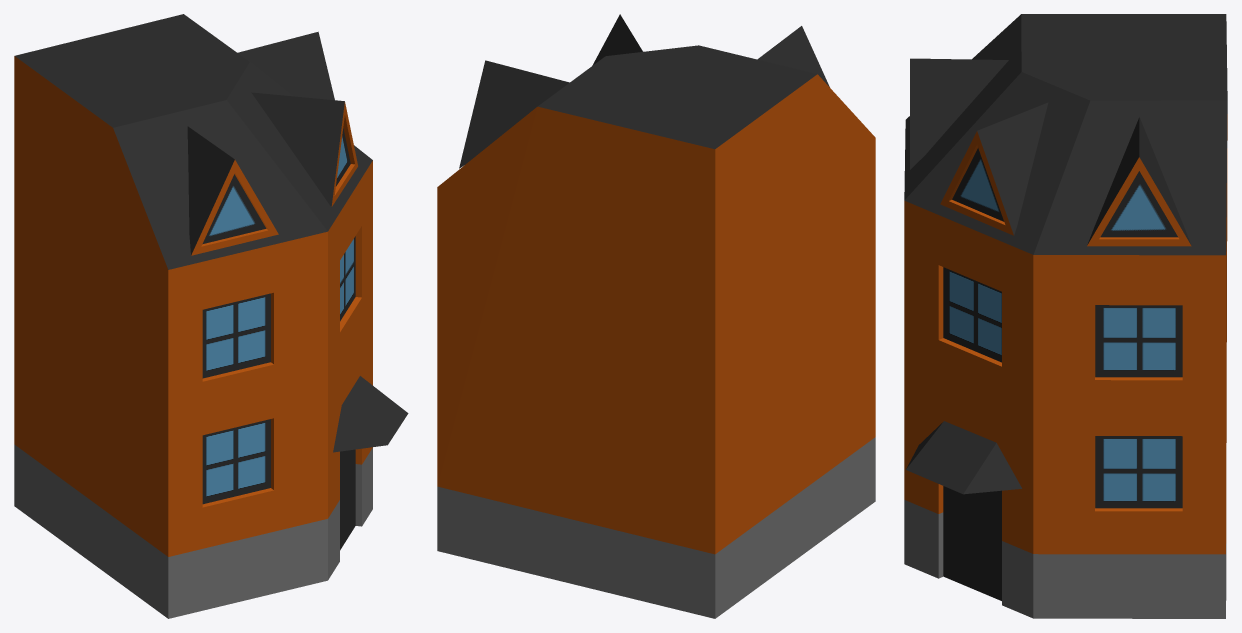
The model's file is CornerTriangleOrange.obj.
3 renders of one model, left to right at view 1: azimuth 30°, elevation 25°; view 2: azimuth 150°, elevation 25°; view 3: azimuth 270°, elevation 25°, orthographic. The views are drawn at different scales.
Parts seen in each view (by area): view 1: naroznikTrojkatPomaranczowy; view 2: naroznikTrojkatPomaranczowy; view 3: naroznikTrojkatPomaranczowy.
Part boxes in pixels (<box>): naroznikTrojkatPomaranczowy: <box>14,14,408,618</box>; naroznikTrojkatPomaranczowy: <box>437,14,875,618</box>; naroznikTrojkatPomaranczowy: <box>904,14,1227,618</box>.
Size of the model in its own units: 5.02 by 8.07 by 5.03.
